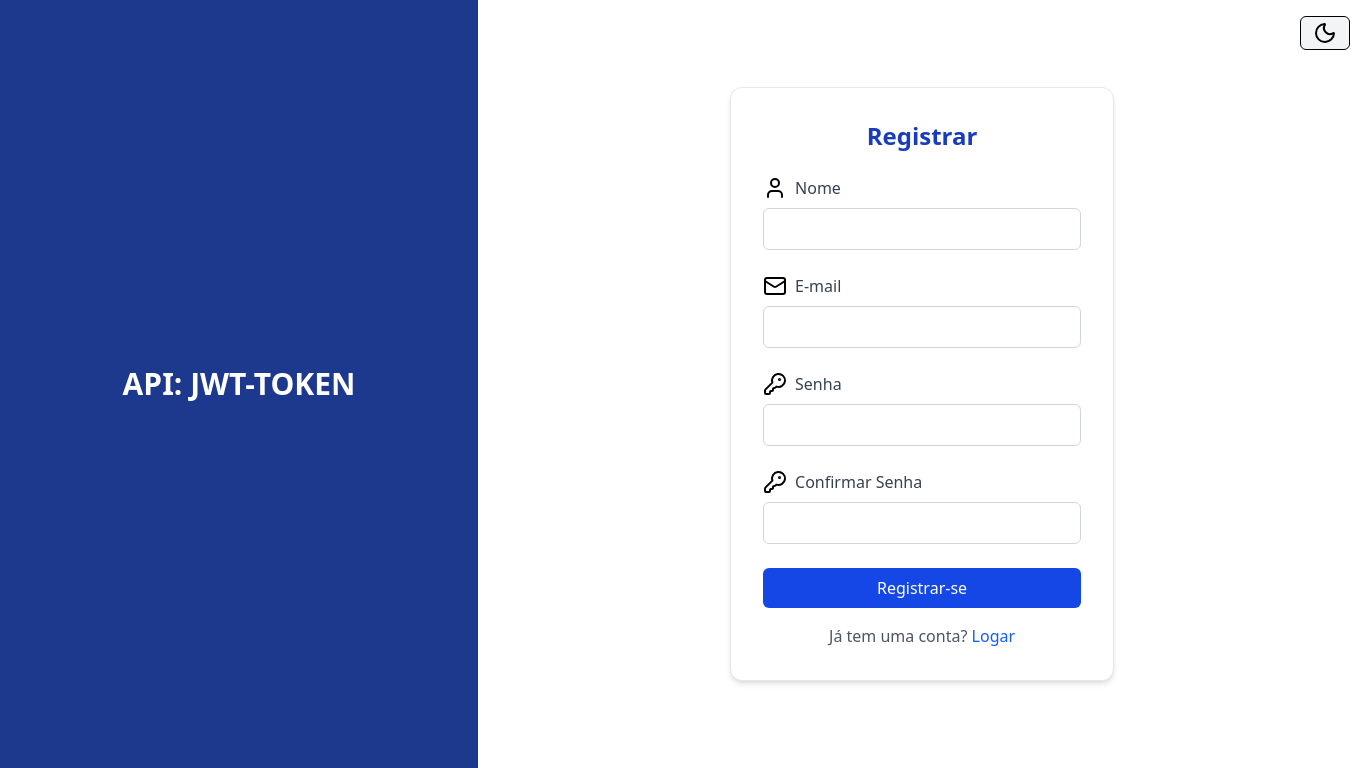
Test case: Validação de Erros no Registro › Erro: email inválido
Click the button with id "theme-toggle-button" at (1325, 33), box [1300,16,1350,50]
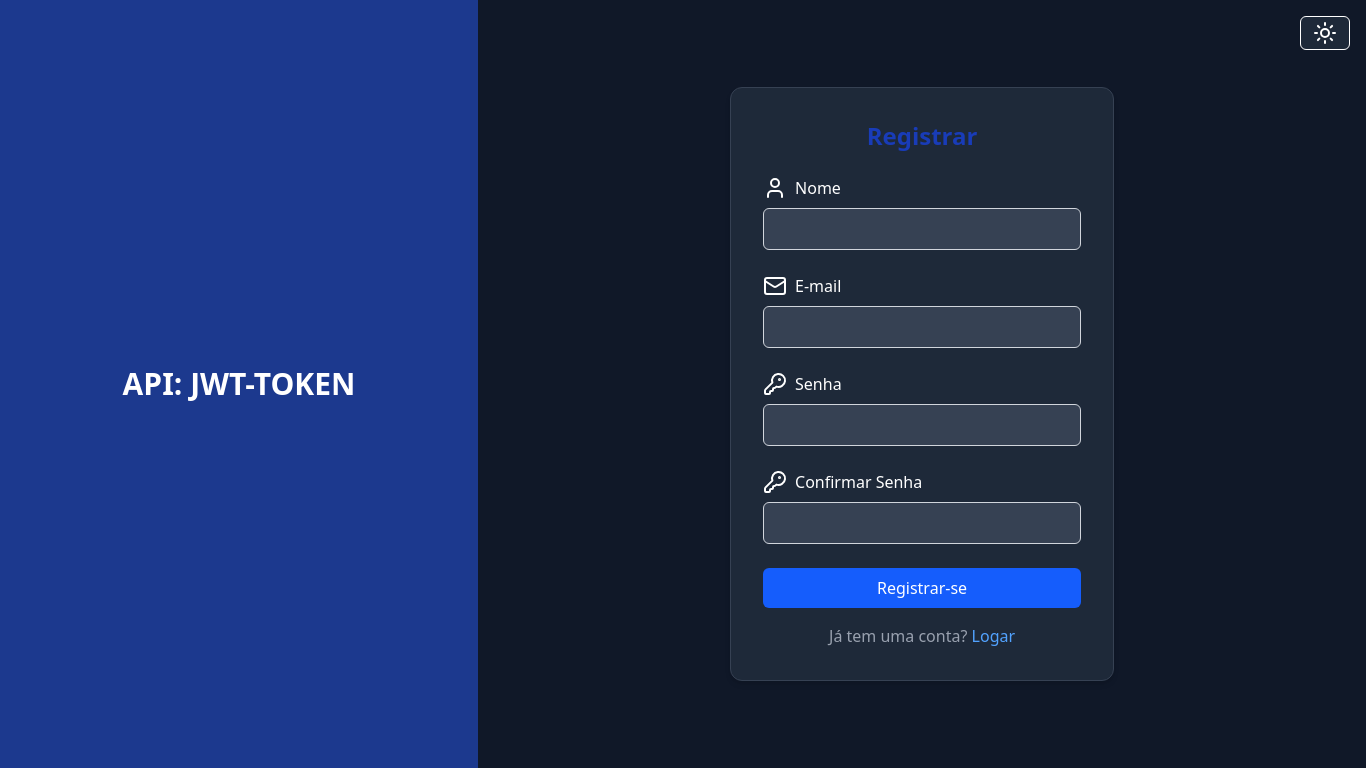
Type "Edson" into the field with id "name" at (922, 229), box [763,208,1081,250]
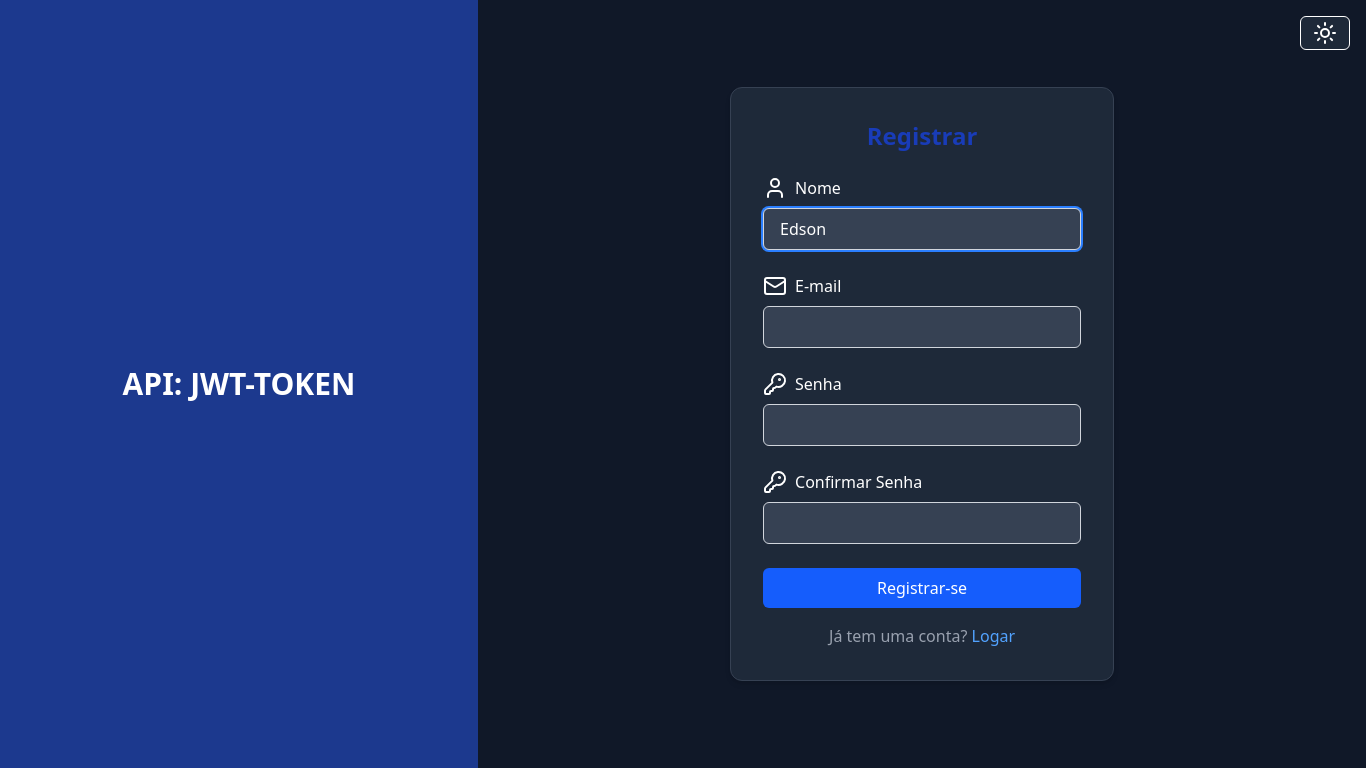
Type "teste@1" into the field with id "email" at (922, 327), box [763,306,1081,348]
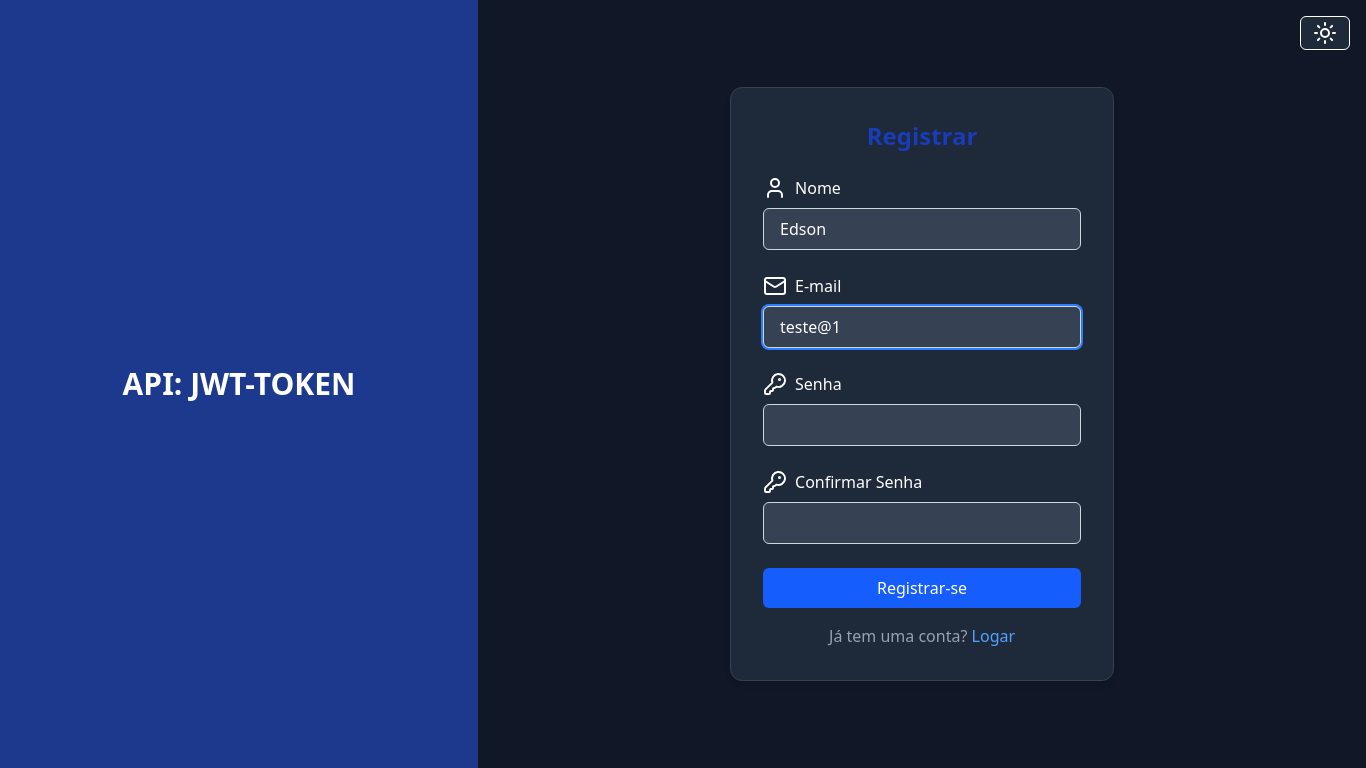
Type "Teste@123" into the 1st password field at (922, 425), box [763,404,1081,446]
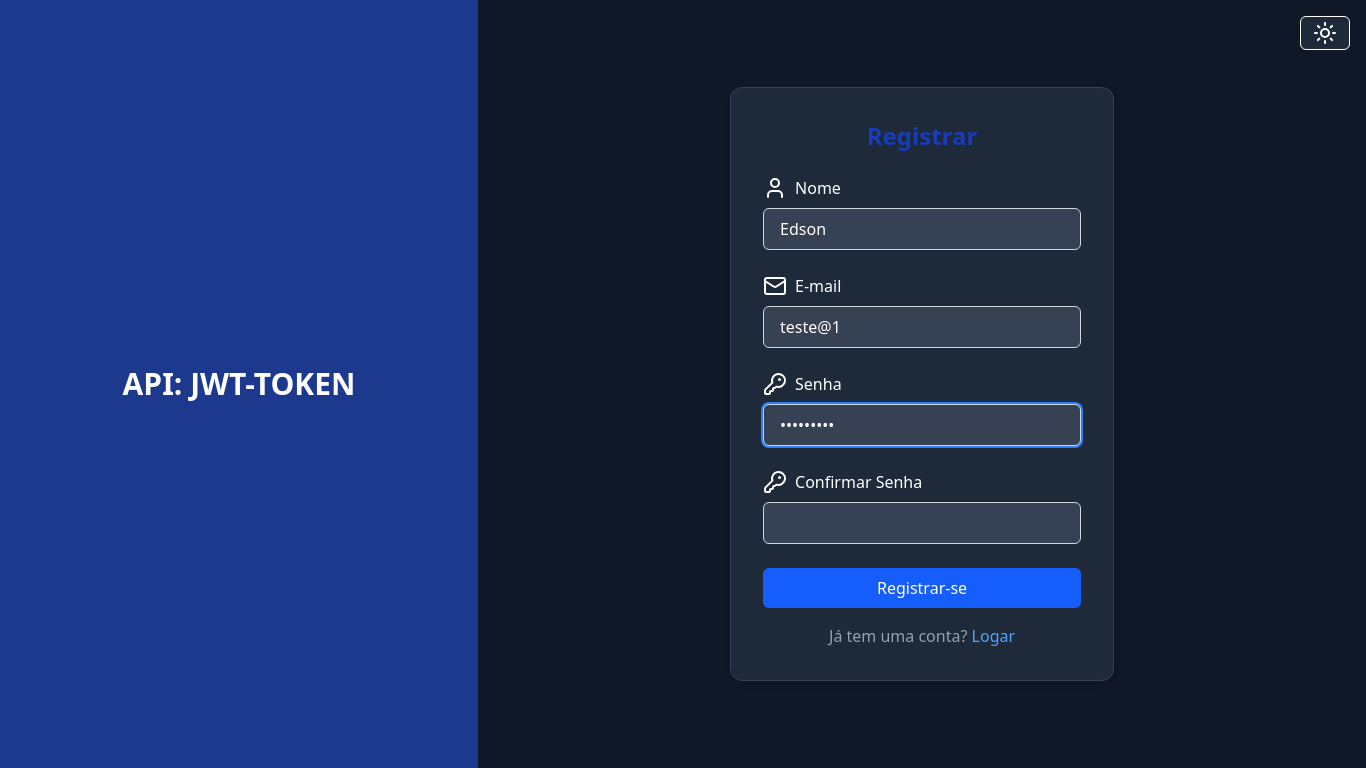
Type "Teste@123" into the password field below "Confirmar Senha" at (922, 523), box [763,502,1081,544]
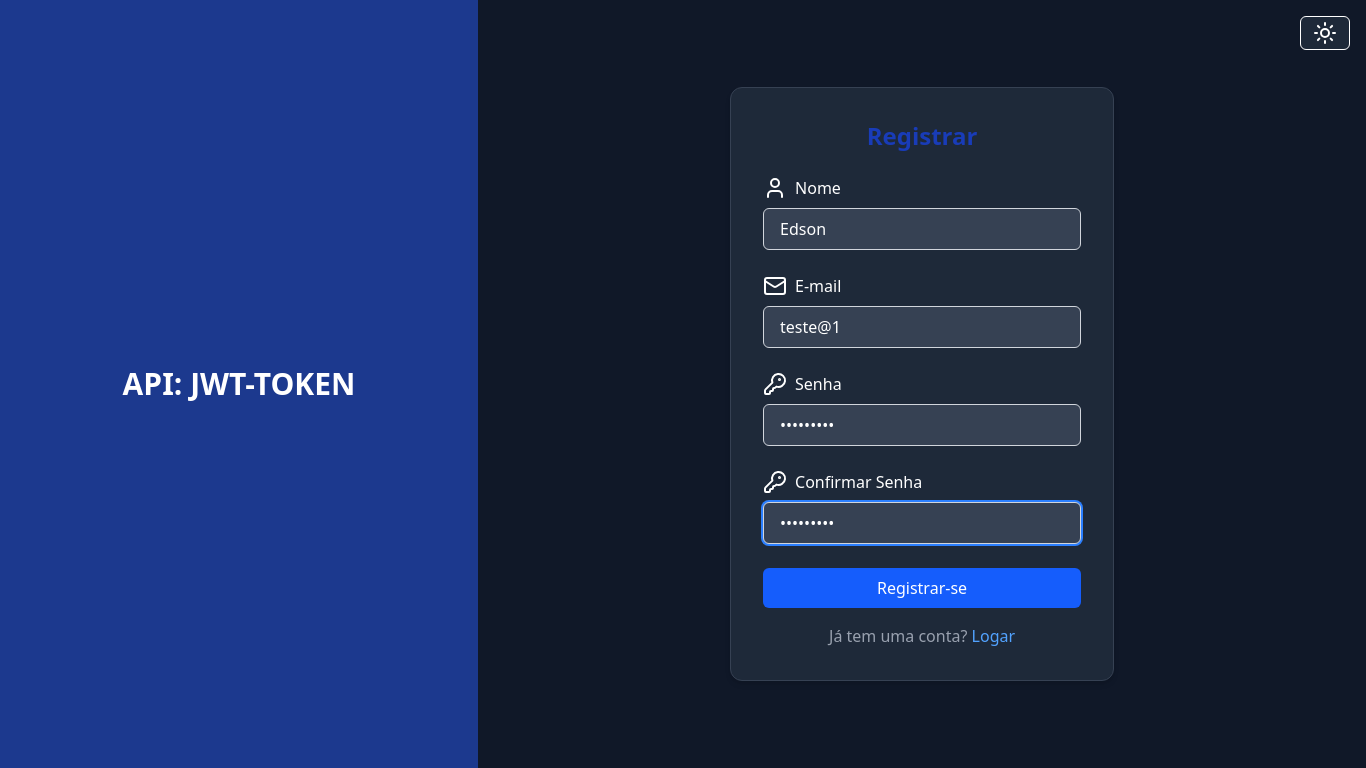
Click the button with id "register-button" at (922, 588), box [763,568,1081,608]
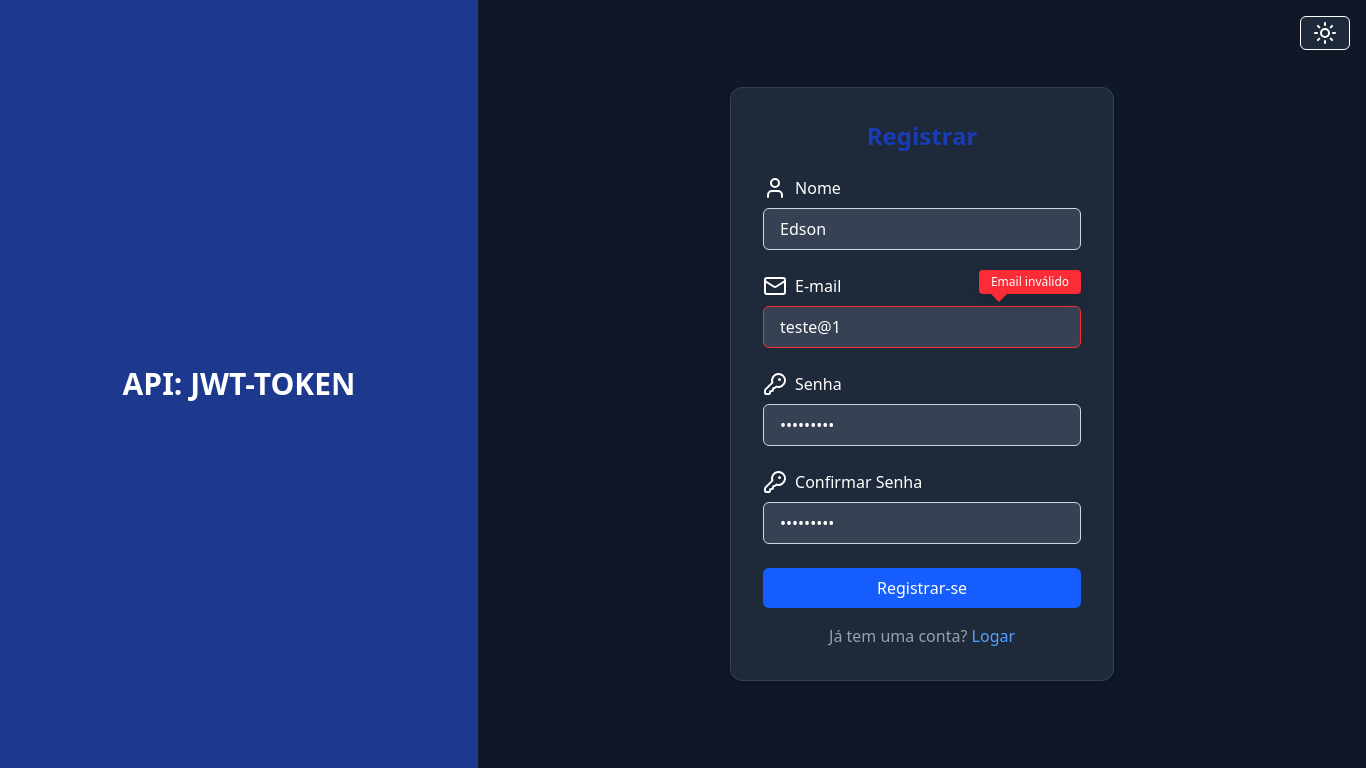
expect the element with id "error-message" reads "Email inválido": met, box [979,270,1081,294]
